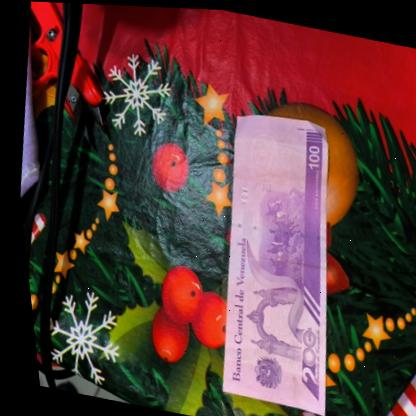one_hundred-back-vef: (187, 102, 363, 416)
